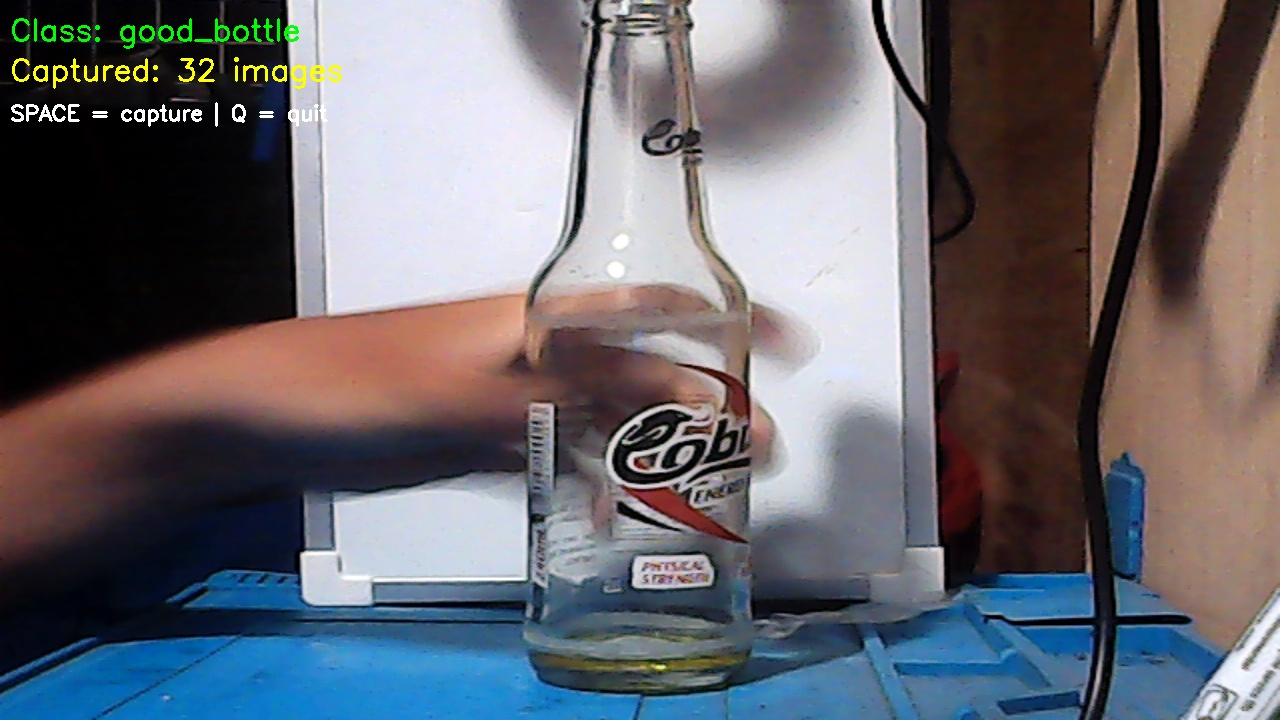good_bottle: (539, 5, 760, 671)
